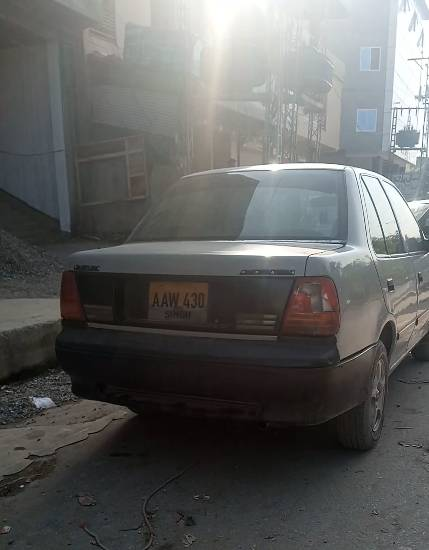number_plate: (141, 279, 219, 325)
